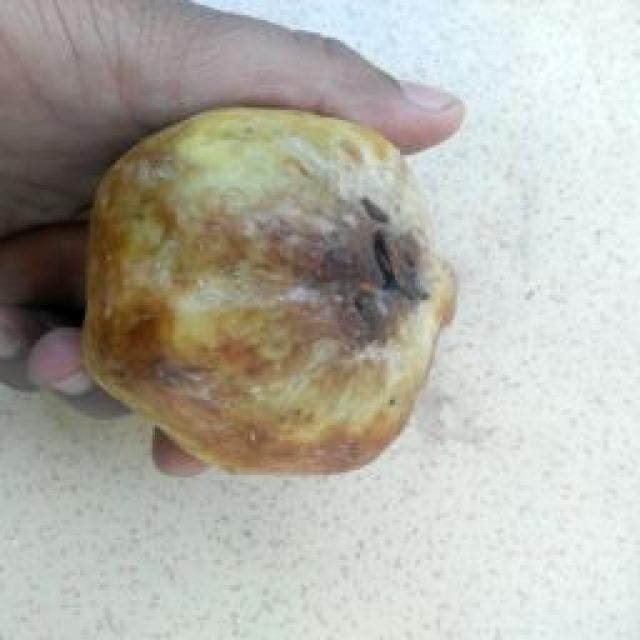Bad_Guava: (82, 109, 454, 472)
